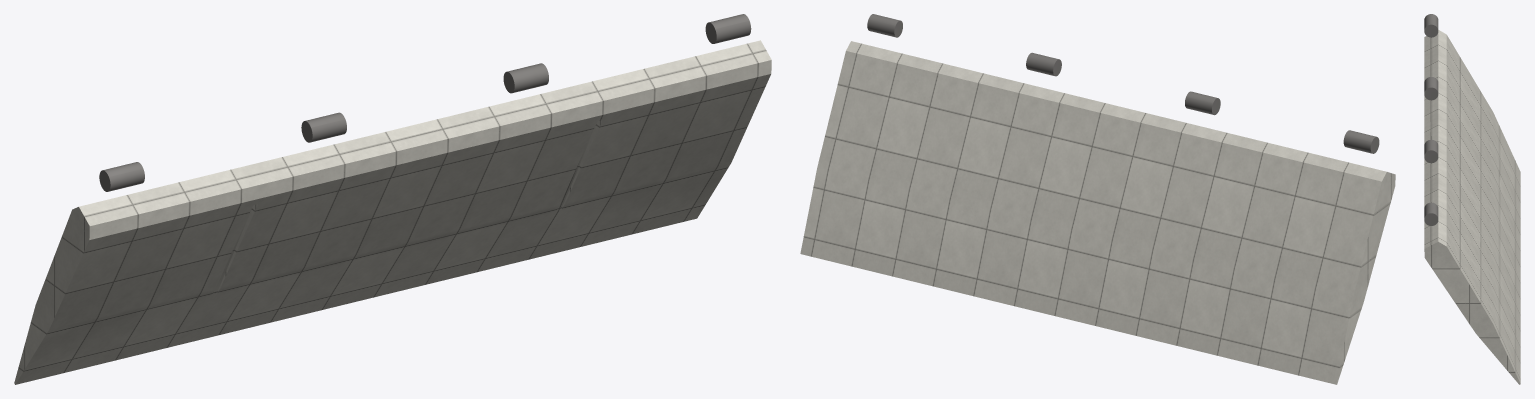
Rendered from ax_aero_25_csf_flap_m_deployed.glb.
3 renders of one model, left to right at view 1: azimuth 30°, elevation 25°; view 2: azimuth 150°, elevation 25°; view 3: azimuth 270°, elevation 25°, orthographic. The views are drawn at different scales.
Parts seen in each view (by area): view 1: surface, hinge_fittings; view 2: surface, hinge_fittings; view 3: surface, hinge_fittings.
Boxes of the visible parts, x1,y1,x2,y2 form: surface: [14, 40, 771, 384]; hinge_fittings: [99, 14, 751, 191]; surface: [800, 41, 1395, 384]; hinge_fittings: [867, 14, 1379, 153]; surface: [1424, 30, 1520, 384]; hinge_fittings: [1424, 14, 1438, 225].
Bounding box in the file's own units: 1.98 × 0.7197 × 0.3806.
Materials: 2 (2 with a texture image).
